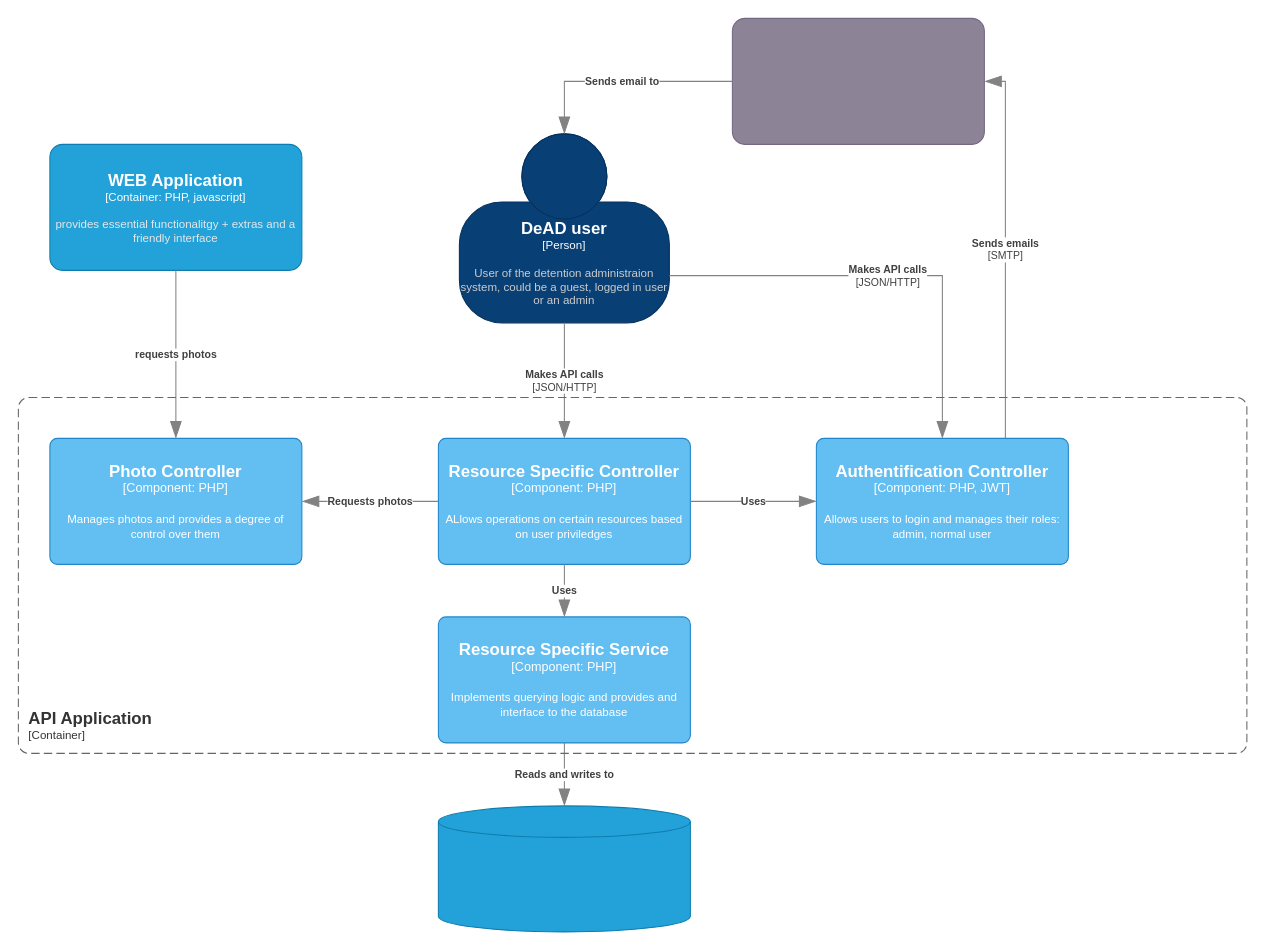
Image size: 1265x950. Some labels were removed from this diagram. Each missing label, with the centre of its shape:
"Database [Container: PostgreSQL] stores information" goes at pixel 563 868.
"External system name [Software System] Description of external software system." goes at pixel 857 80.
